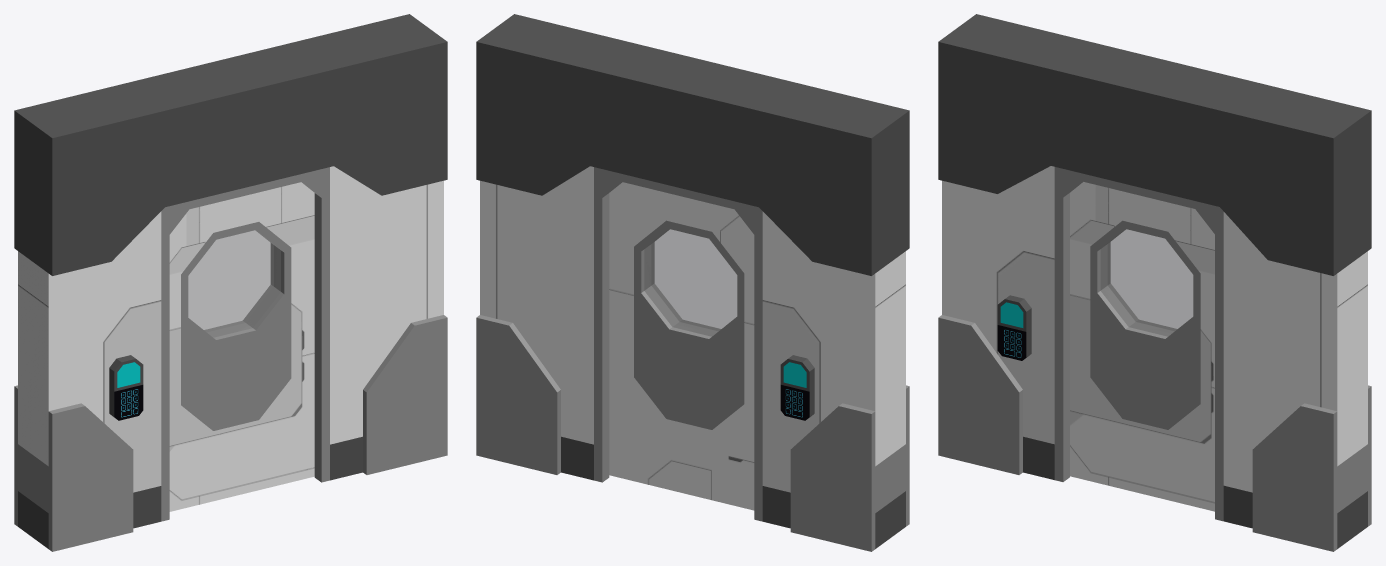
The model's file is SM_Wall_3x3_Door_1.fbx.
The picture shows the model from 3 angles, left to right: view 1: azimuth 30°, elevation 25°; view 2: azimuth 150°, elevation 25°; view 3: azimuth 330°, elevation 25°; orthographic projection.
Visible parts, largest first — view 1: SM_Wall_3x3_Door_1, SM_3x3_Door_1; view 2: SM_Wall_3x3_Door_1, SM_3x3_Door_1; view 3: SM_Wall_3x3_Door_1, SM_3x3_Door_1.
Boxes of the visible parts, bbox=[...] form: SM_Wall_3x3_Door_1: bbox=[14, 14, 447, 551]; SM_3x3_Door_1: bbox=[169, 182, 314, 511]; SM_Wall_3x3_Door_1: bbox=[476, 14, 909, 551]; SM_3x3_Door_1: bbox=[609, 182, 754, 510]; SM_Wall_3x3_Door_1: bbox=[938, 14, 1371, 551]; SM_3x3_Door_1: bbox=[1070, 182, 1214, 511].
Bounding box in the file's own units: 300 × 300 × 53.71.
